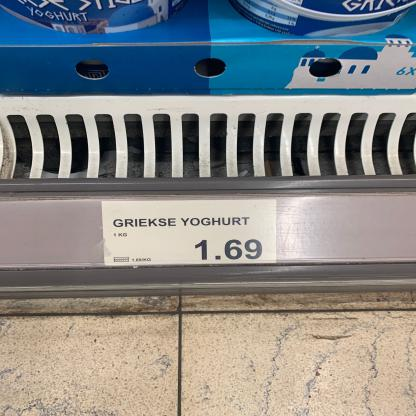prtg: (102, 200, 278, 267)
